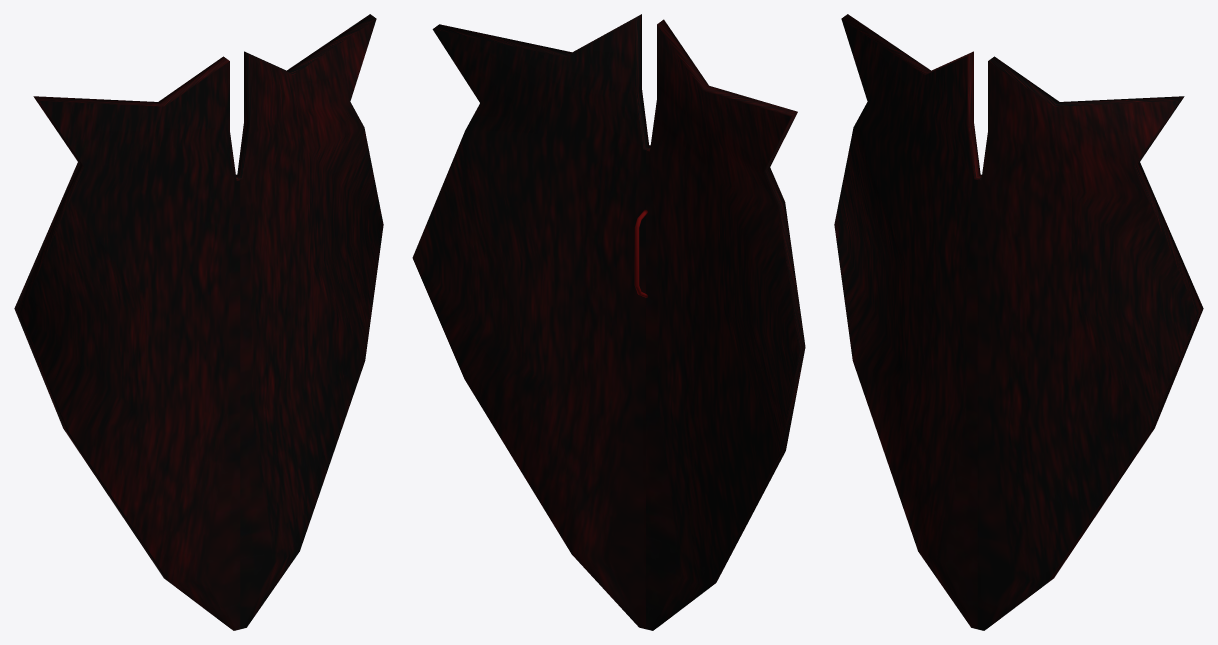
Rendered from Shield1.fbx.
The picture shows the model from 3 angles, left to right: view 1: azimuth 30°, elevation 25°; view 2: azimuth 150°, elevation 25°; view 3: azimuth 330°, elevation 25°; orthographic projection. The views are drawn at different scales.
Visible parts, largest first — view 1: Cube; view 2: Cube; view 3: Cube.
Boxes of the visible parts, bbox=[...] form: Cube: bbox=[14, 14, 383, 630]; Cube: bbox=[412, 14, 805, 630]; Cube: bbox=[834, 14, 1203, 630].
Size of the model in its own units: 325 by 489 by 69.02.
